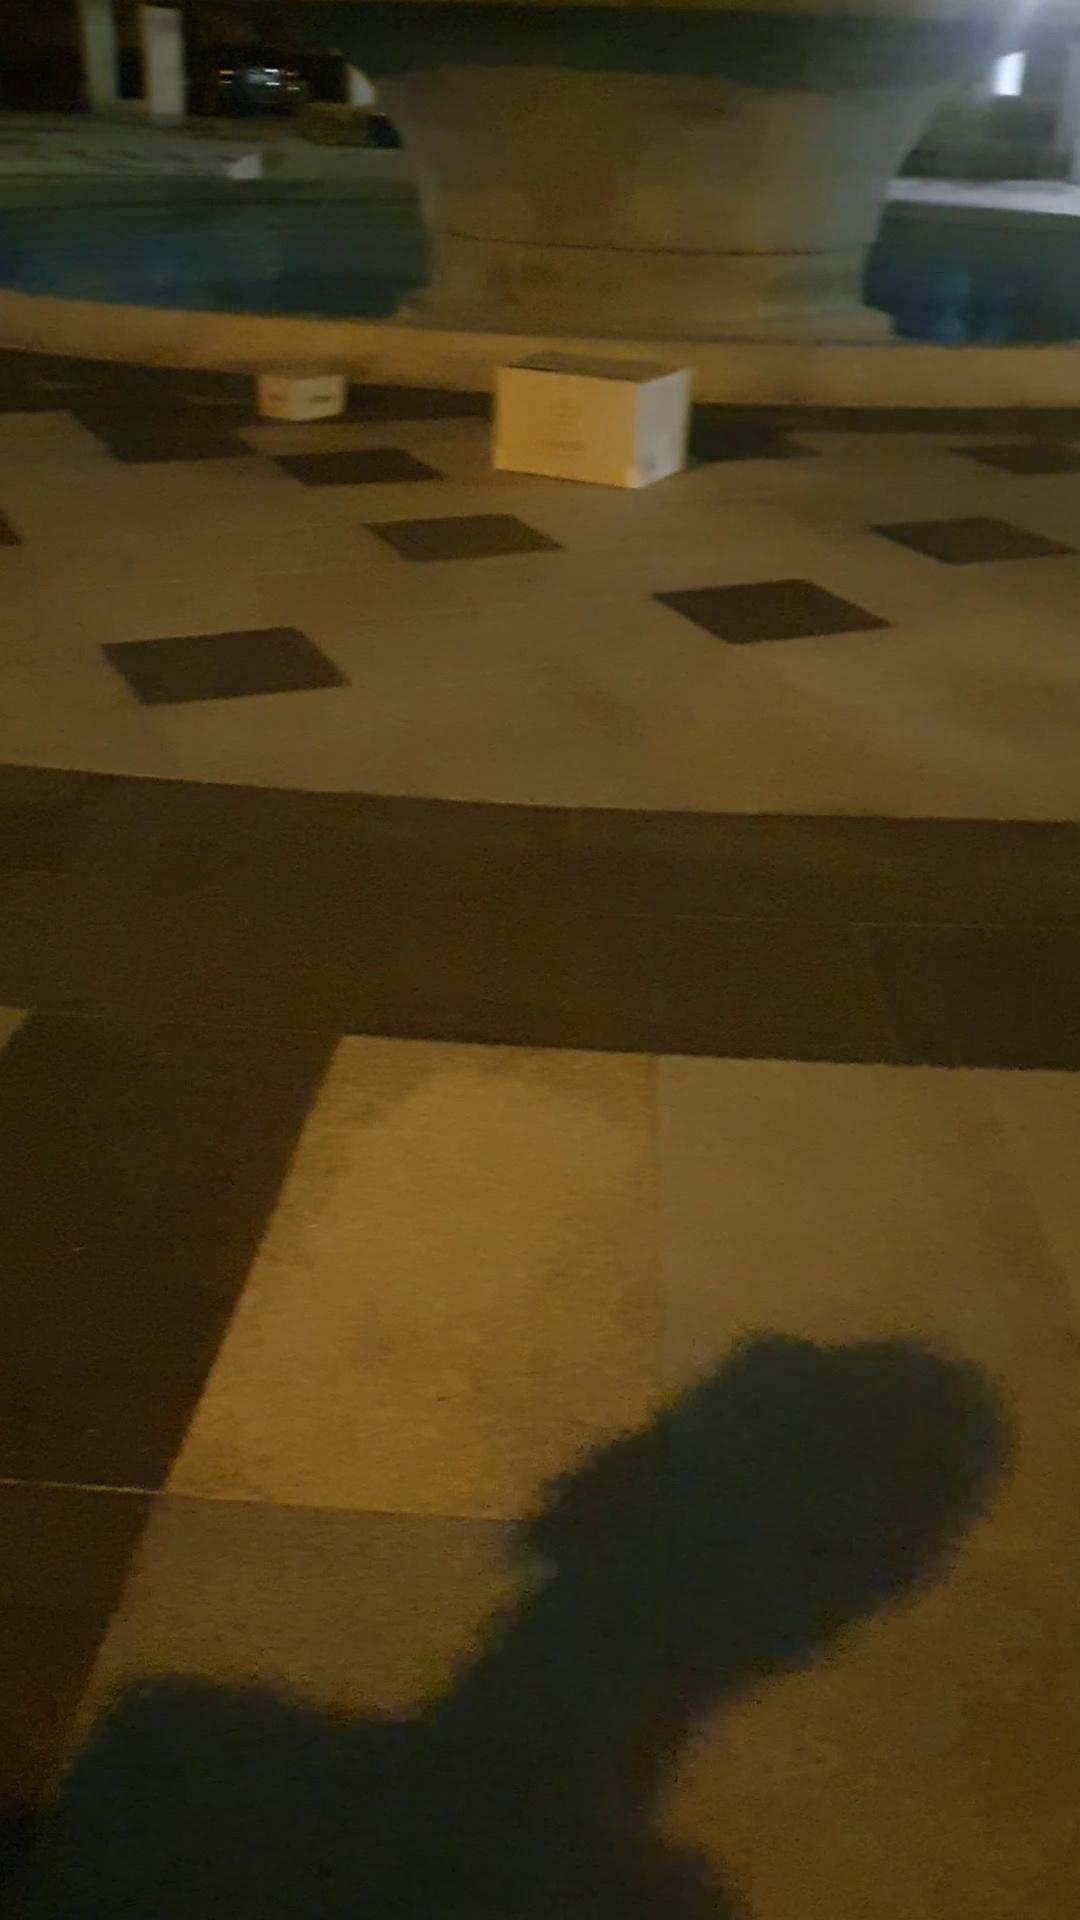Box: (481, 338, 692, 500), (237, 345, 372, 433)
